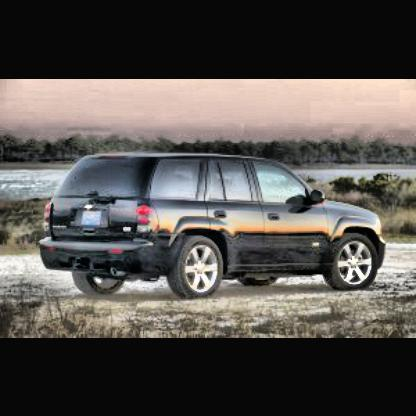Buick Rainier SUV 2007: (35, 150, 391, 306)
